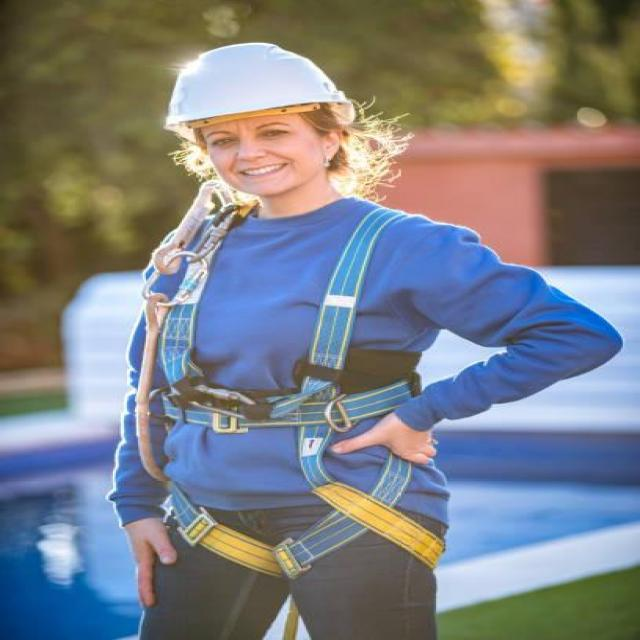belt: (155, 204, 449, 583)
